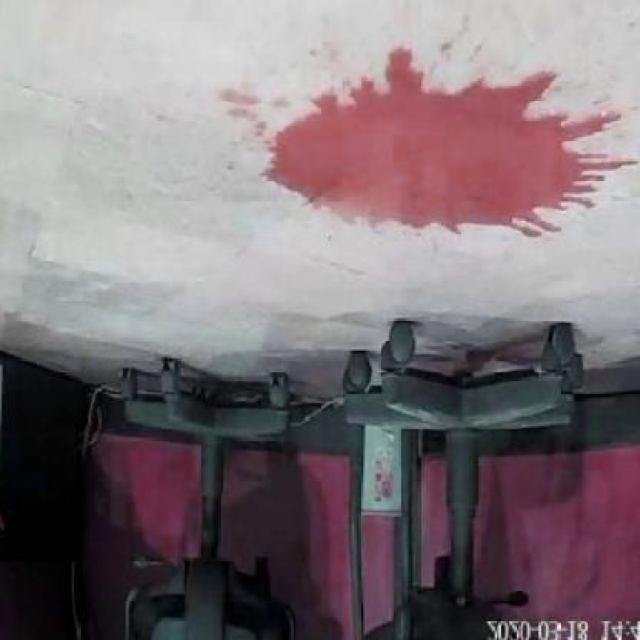spillage: (261, 51, 618, 236)
